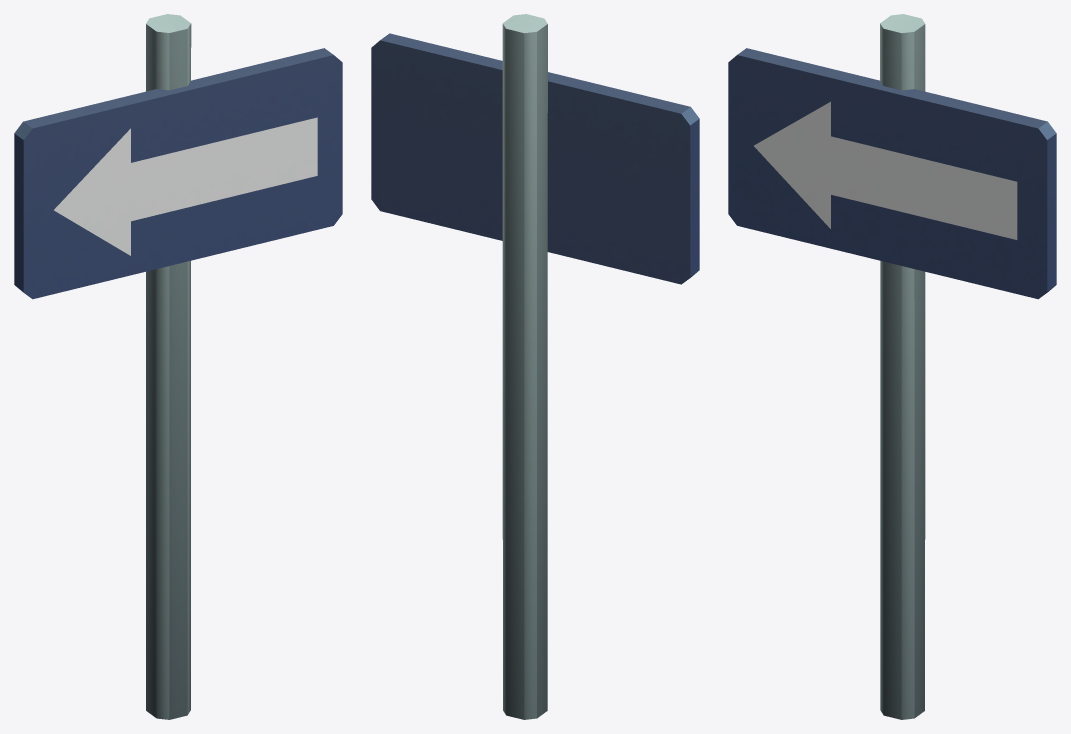
File: sign_oneway.fbx
The picture shows the model from 3 angles, left to right: view 1: azimuth 30°, elevation 25°; view 2: azimuth 150°, elevation 25°; view 3: azimuth 330°, elevation 25°; orthographic projection.
Visible parts, largest first — view 1: sign_oneway; view 2: sign_oneway; view 3: sign_oneway.
Boxes of the visible parts, left/top/right/bottom form: sign_oneway: left=14, top=14, right=342, bottom=719; sign_oneway: left=371, top=14, right=699, bottom=719; sign_oneway: left=728, top=14, right=1056, bottom=719.
Size of the model in its own units: 122 by 250 by 17.99.
